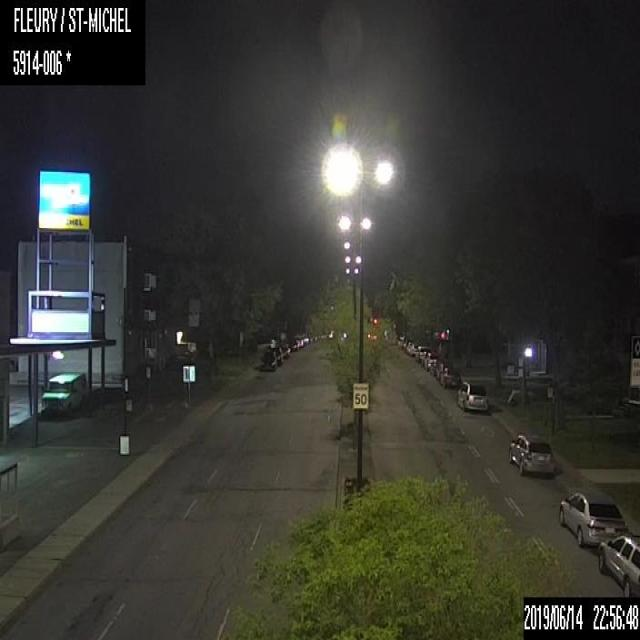vehicle: (558, 490, 628, 552), (600, 532, 639, 594), (39, 370, 89, 417), (506, 428, 554, 476), (456, 380, 490, 413), (254, 346, 276, 373), (439, 365, 461, 388), (414, 345, 429, 363), (275, 346, 282, 365), (409, 341, 416, 356)
